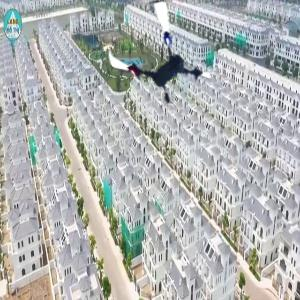drone: (103, 2, 215, 114)
